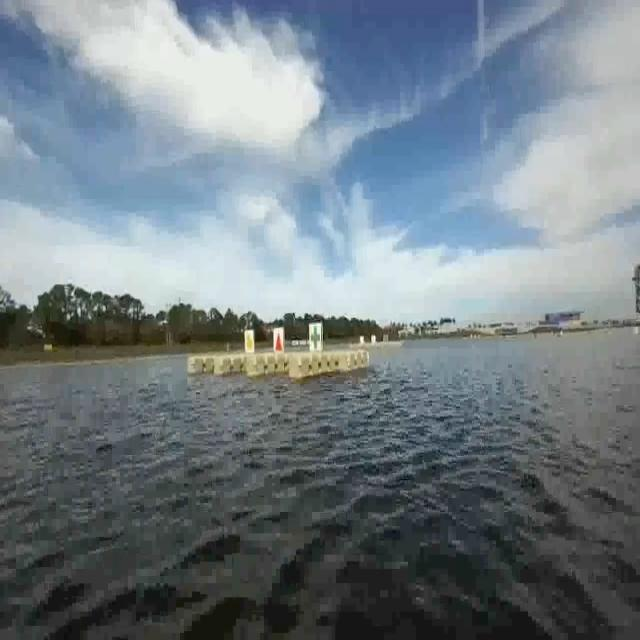blue-cross: (311, 325, 324, 358)
red-dot: (272, 326, 285, 354)
yellow-duck: (244, 332, 256, 355)
